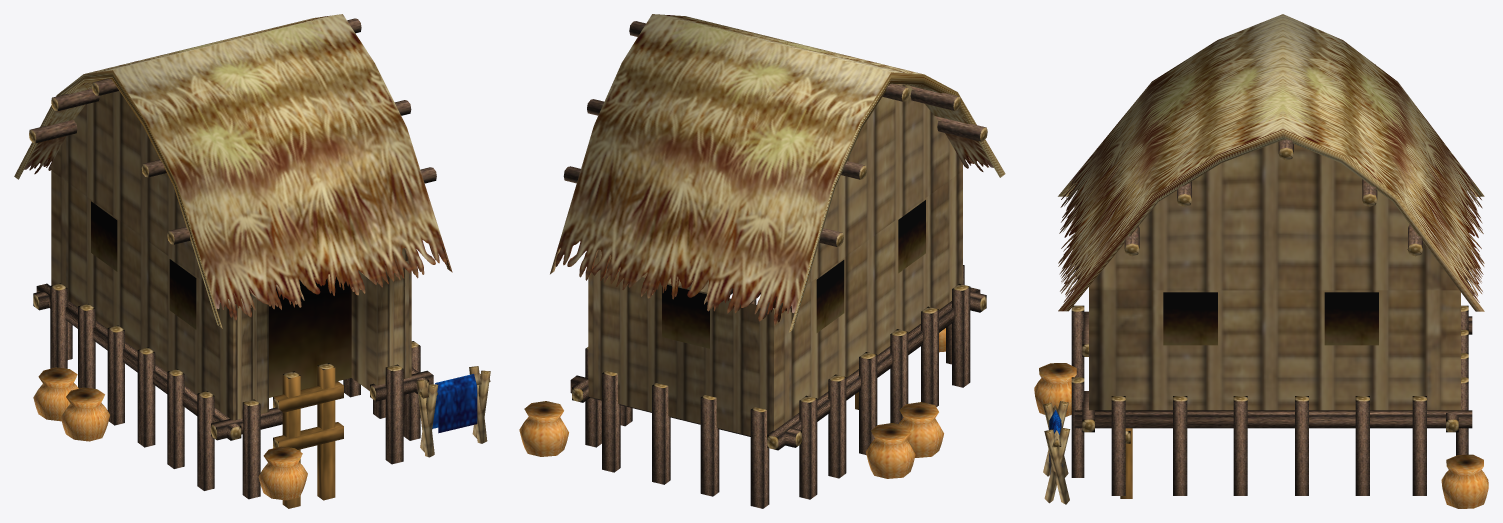
The model's file is house_3.dae.
3 views of the same model, side by side, from view 1: azimuth 30°, elevation 25°; view 2: azimuth 150°, elevation 25°; view 3: azimuth 270°, elevation 25° (orthographic). The views are drawn at different scales.
Visible parts, largest first — view 1: house_3; view 2: house_3; view 3: house_3.
Boxes of the visible parts, x1,y1,x2,y2 form: house_3: (14,14,490,508); house_3: (519,14,1005,508); house_3: (1034,14,1488,508).
Size of the model in its own units: 10.03 by 12.36 by 12.41.
